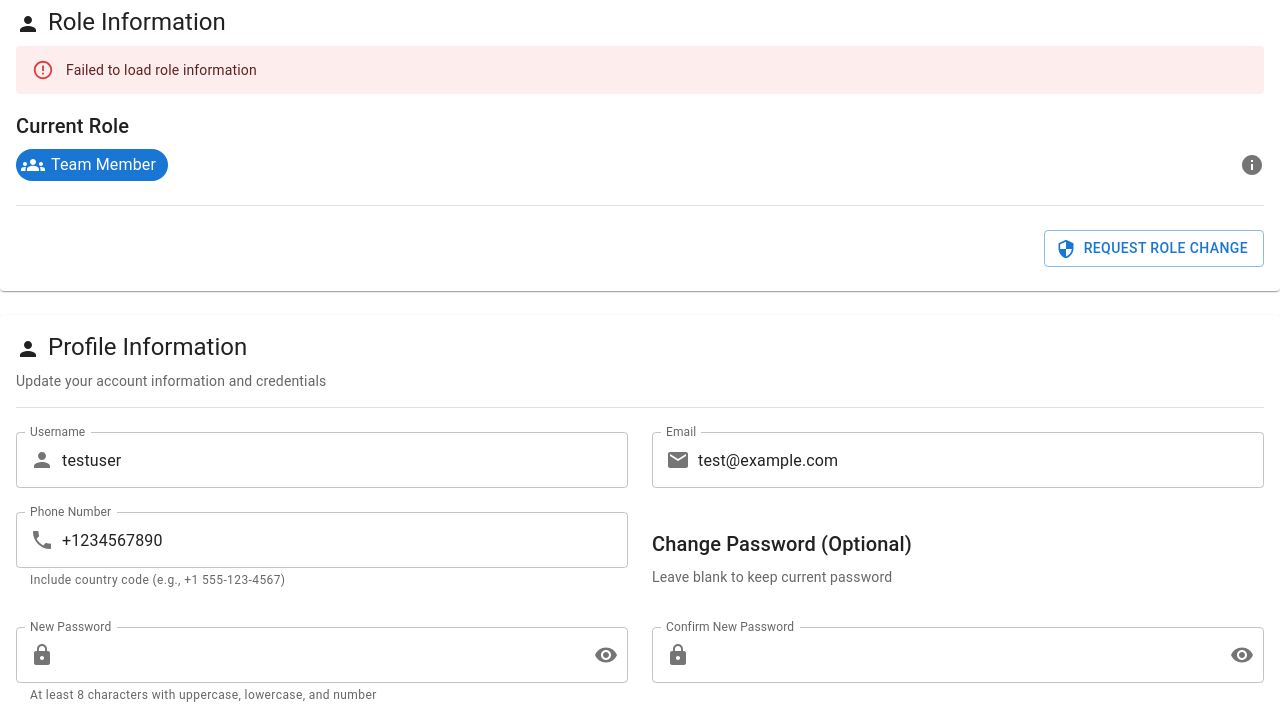
UserProfile › handles profile update error
Replace the text in the field showing "testuser" with "existinguser" at (345, 460), box [62,432,628,488]
(page scrolled)
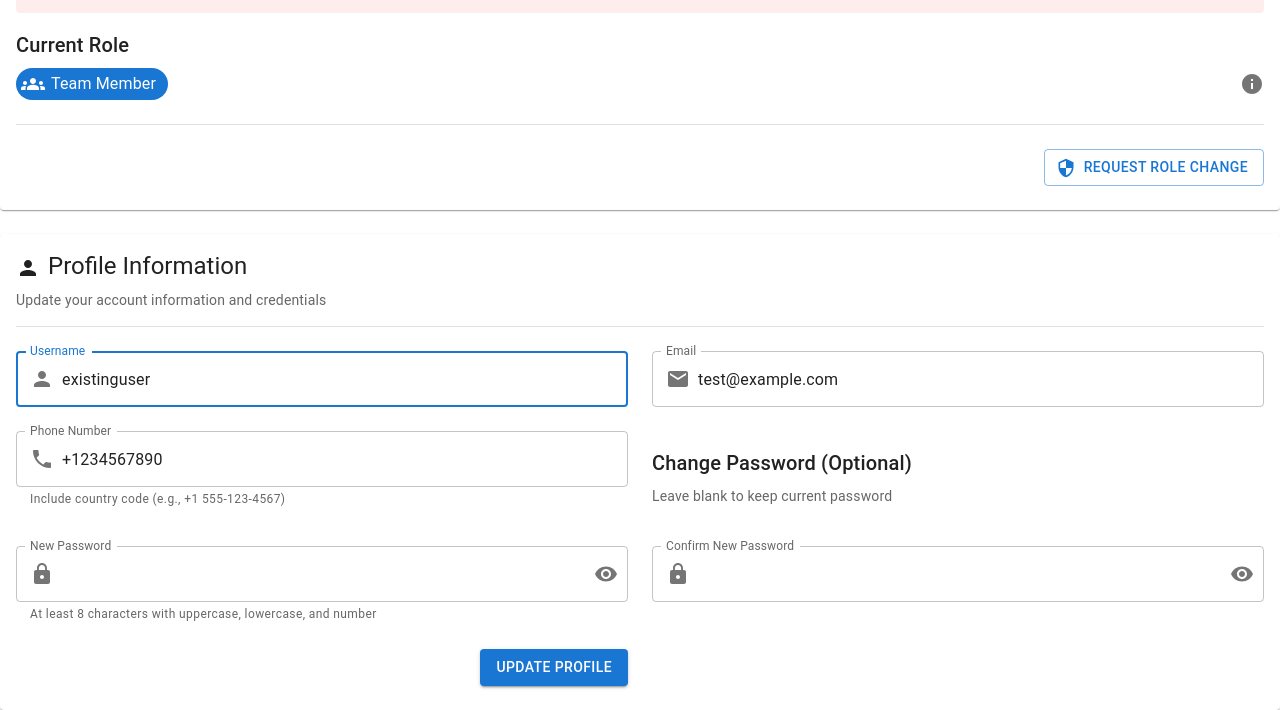
Click the button "Update Profile" at (554, 668), box [480,649,628,686]
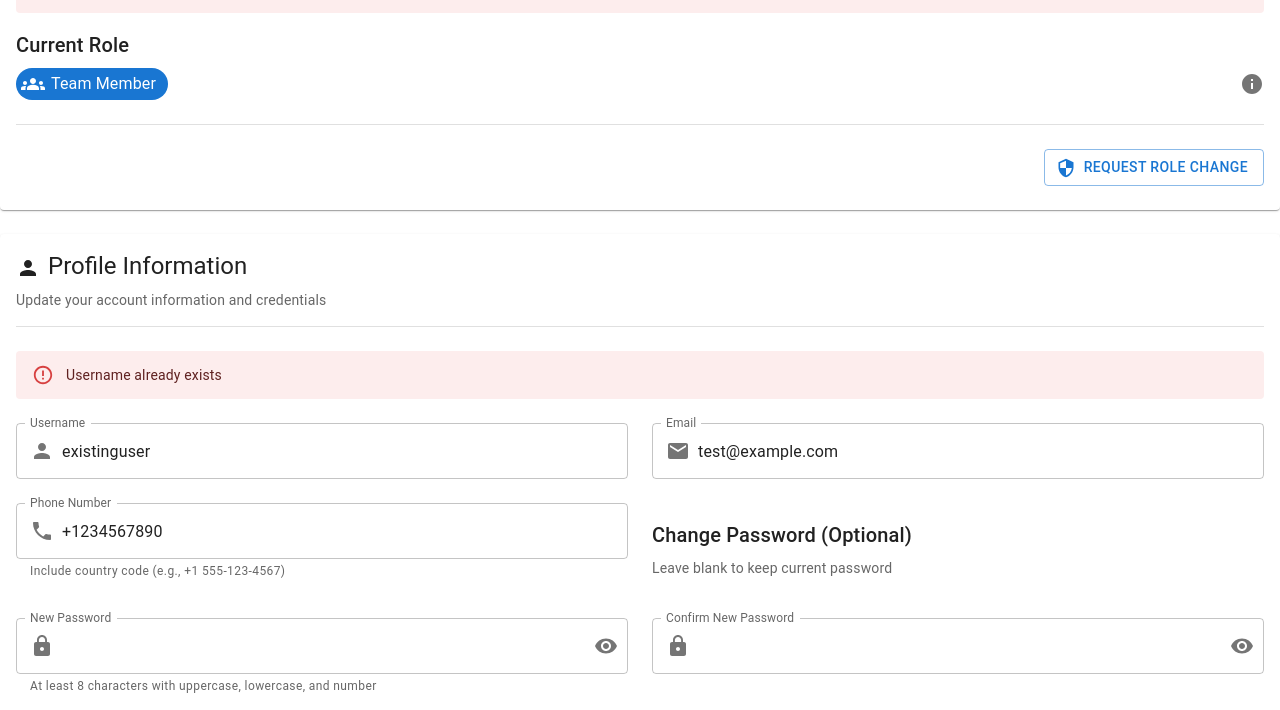
Expected: the text "Username already exists" is shown, [66,367,222,383]
